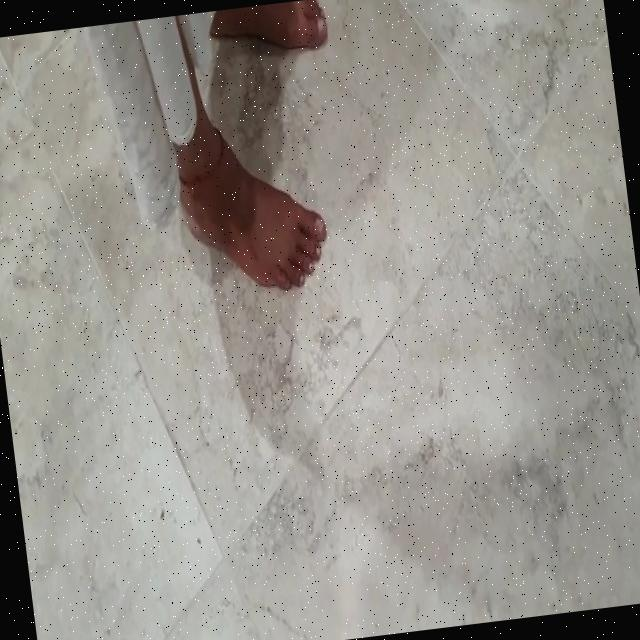no-boots: (154, 101, 344, 323), (201, 0, 334, 73)
